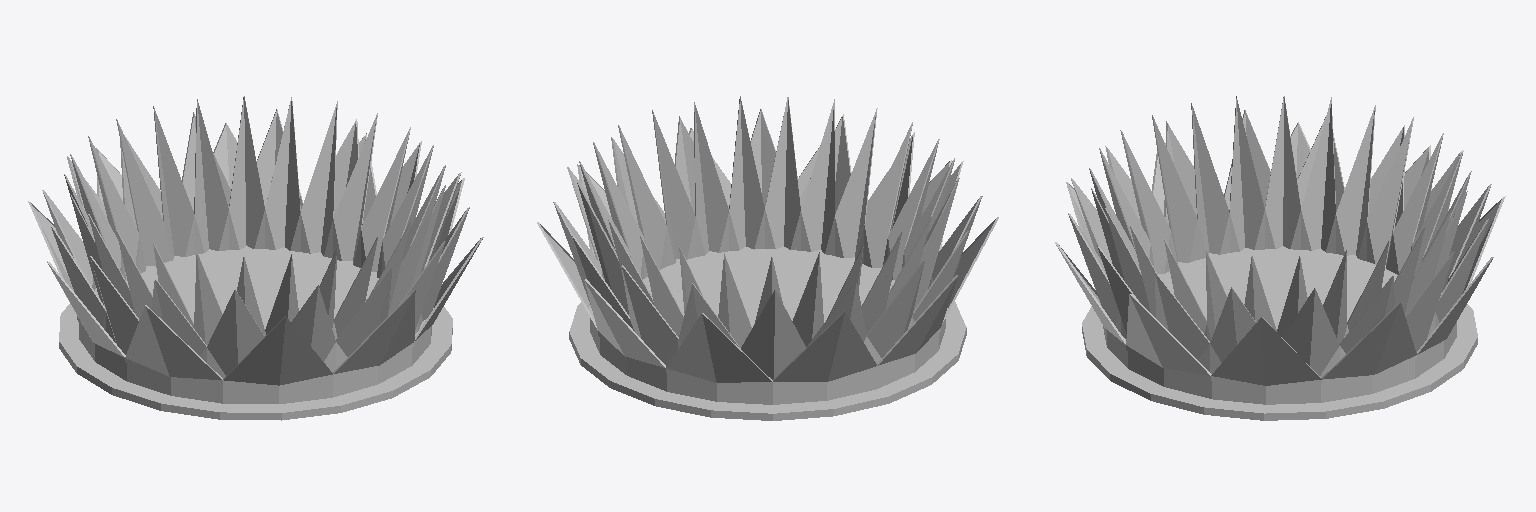
File: portal_000038.obj
3 renders of one model, left to right at view 1: azimuth 30°, elevation 25°; view 2: azimuth 150°, elevation 25°; view 3: azimuth 270°, elevation 25°, orthographic.
Parts seen in each view (by area): view 1: Cylinder.001, pCylinder1, Cylinder; view 2: Cylinder.001, pCylinder1, Cylinder; view 3: Cylinder.001, pCylinder1, Cylinder.
Part boxes in pixels (bbox=[...]): Cylinder.001: bbox=[64, 96, 445, 345]; pCylinder1: bbox=[28, 123, 483, 420]; Cylinder: bbox=[42, 109, 469, 378]; Cylinder.001: bbox=[577, 96, 959, 347]; pCylinder1: bbox=[537, 128, 998, 420]; Cylinder: bbox=[553, 109, 982, 379]; Cylinder.001: bbox=[1089, 96, 1471, 343]; pCylinder1: bbox=[1055, 122, 1505, 420]; Cylinder: bbox=[1068, 110, 1491, 377].
Bounding box in the file's own units: 7.43 × 2.9 × 7.24.